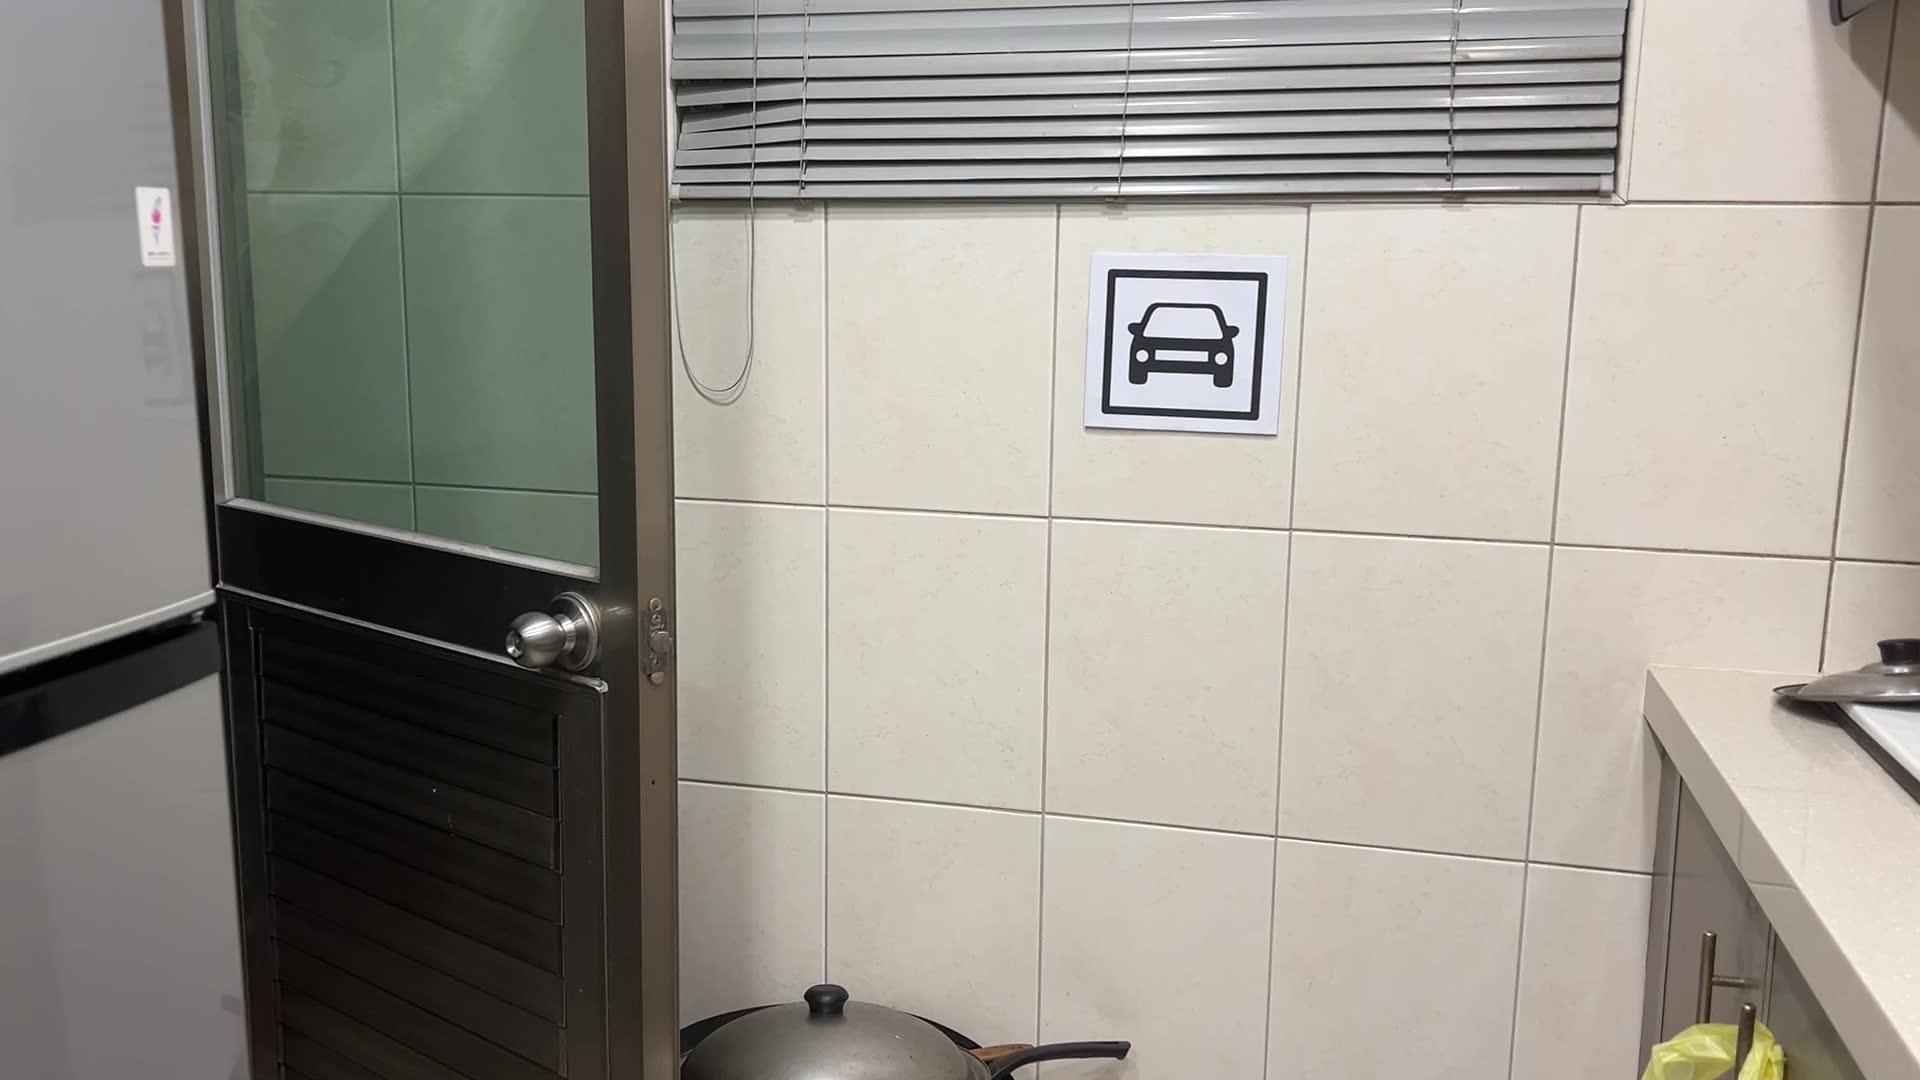car_img: (1098, 266, 1271, 423)
